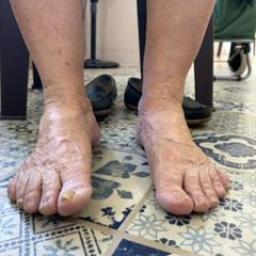Front View -Both Feet-: (1, 47, 242, 230)
